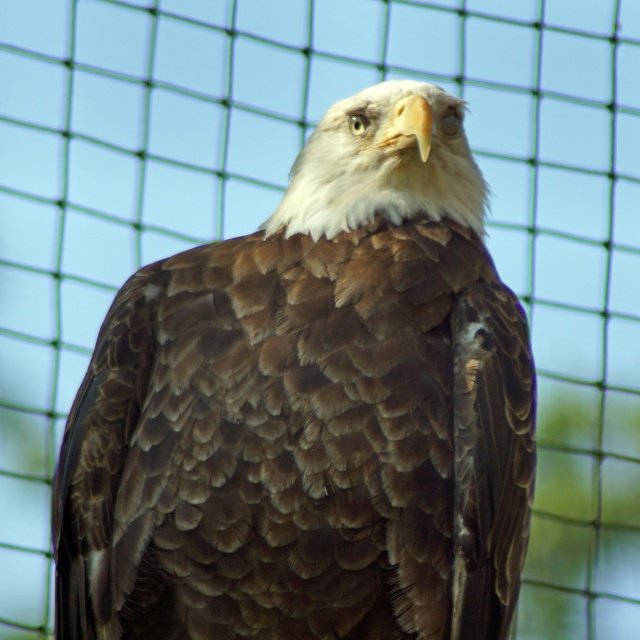Eagle: (56, 77, 540, 640)
